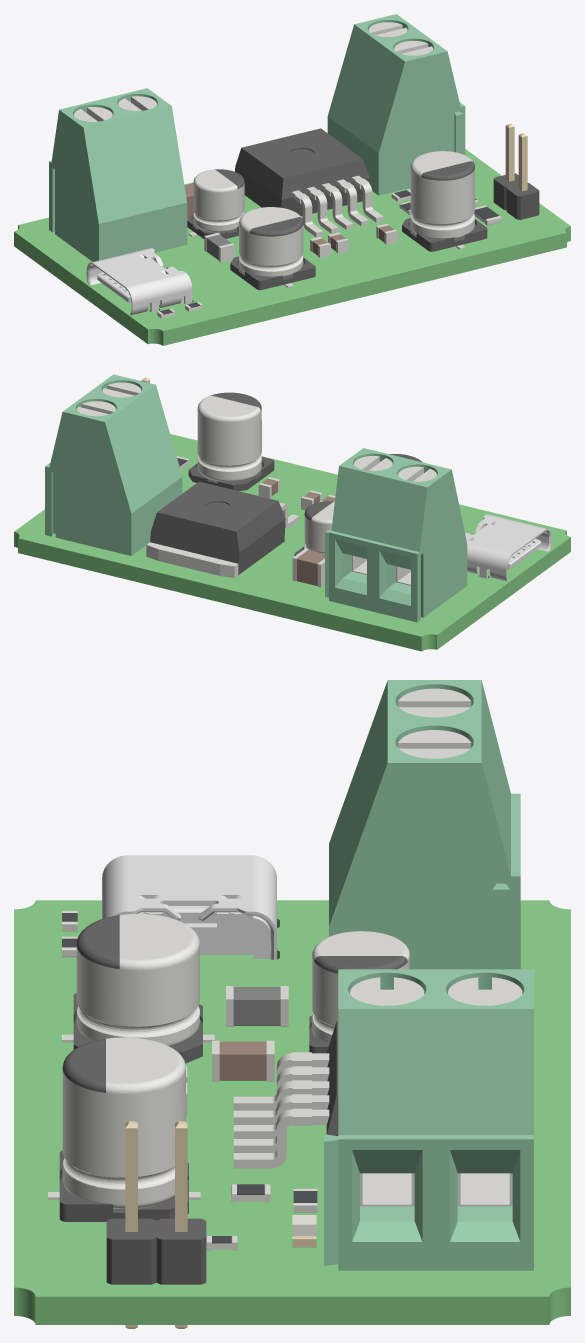
File: SIMM800LVreg3d.glb
3 renders of one model, top to bottom at view 1: azimuth 30°, elevation 25°; view 2: azimuth 150°, elevation 25°; view 3: azimuth 270°, elevation 25°, orthographic. The views are drawn at different scales.
Visible parts, largest first — view 1: Node6, Node12, Node3, Node5, Node2, Node1, Node9, Node10, Node8; view 2: Node6, Node12, Node3, Node5, Node2, Node10, Node1; view 3: Node6, Node12, Node3, Node5, Node2, Node1, Node9, Node10, Node11, Node8, Node7.
Part boxes in pixels (x1,y1,x2,y2): Node6: [49, 14, 465, 261]; Node12: [14, 149, 570, 345]; Node3: [74, 22, 501, 318]; Node5: [187, 128, 539, 290]; Node2: [86, 248, 185, 314]; Node1: [97, 251, 192, 315]; Node9: [505, 123, 527, 191]; Node10: [184, 183, 393, 255]; Node8: [160, 190, 498, 314]; Node6: [45, 374, 467, 622]; Node12: [14, 434, 570, 651]; Node3: [77, 382, 436, 587]; Node5: [150, 392, 422, 574]; Node2: [465, 515, 551, 581]; Node10: [262, 479, 335, 585]; Node1: [466, 514, 546, 578]; Node6: [324, 680, 533, 1270]; Node12: [14, 900, 570, 1324]; Node3: [48, 688, 522, 1250]; Node5: [59, 915, 407, 1284]; Node2: [113, 855, 276, 959]; Node1: [102, 855, 271, 959]; Node9: [125, 1121, 316, 1328]; Node10: [219, 1041, 266, 1080]; Node11: [233, 987, 280, 1025]; Node8: [62, 913, 317, 1243]; Node7: [207, 1195, 316, 1249].
Size of the model in its own units: 47.9 by 17.3 by 28.45.
